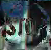Stop: (0, 1, 49, 48)
